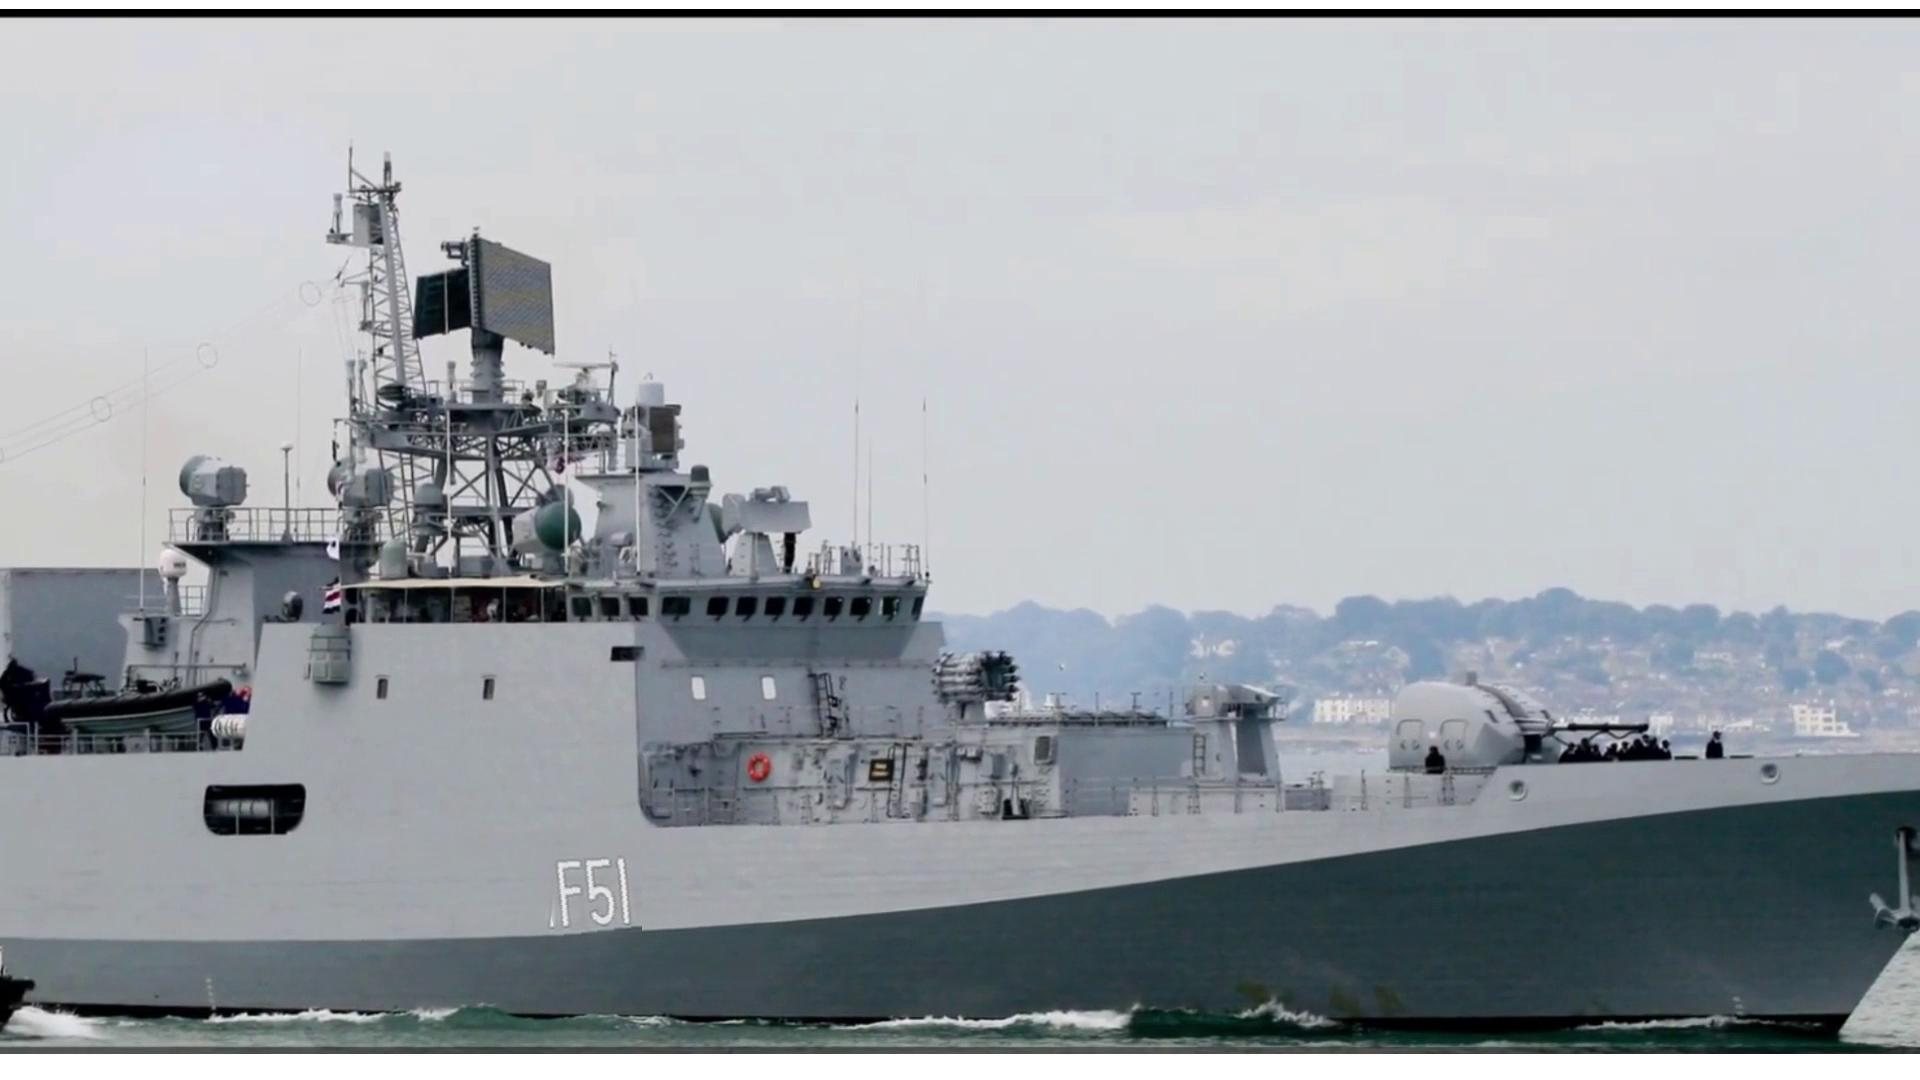OCR: (541, 853, 642, 943)
